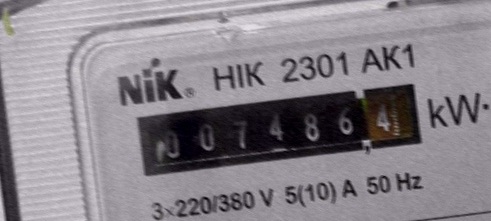0: (159, 126, 183, 162), (196, 120, 218, 155)
4: (264, 108, 286, 145), (372, 100, 393, 136)
6: (335, 104, 358, 138)
7: (228, 116, 255, 152)
8: (301, 110, 323, 147)
screen: (126, 71, 433, 191)
